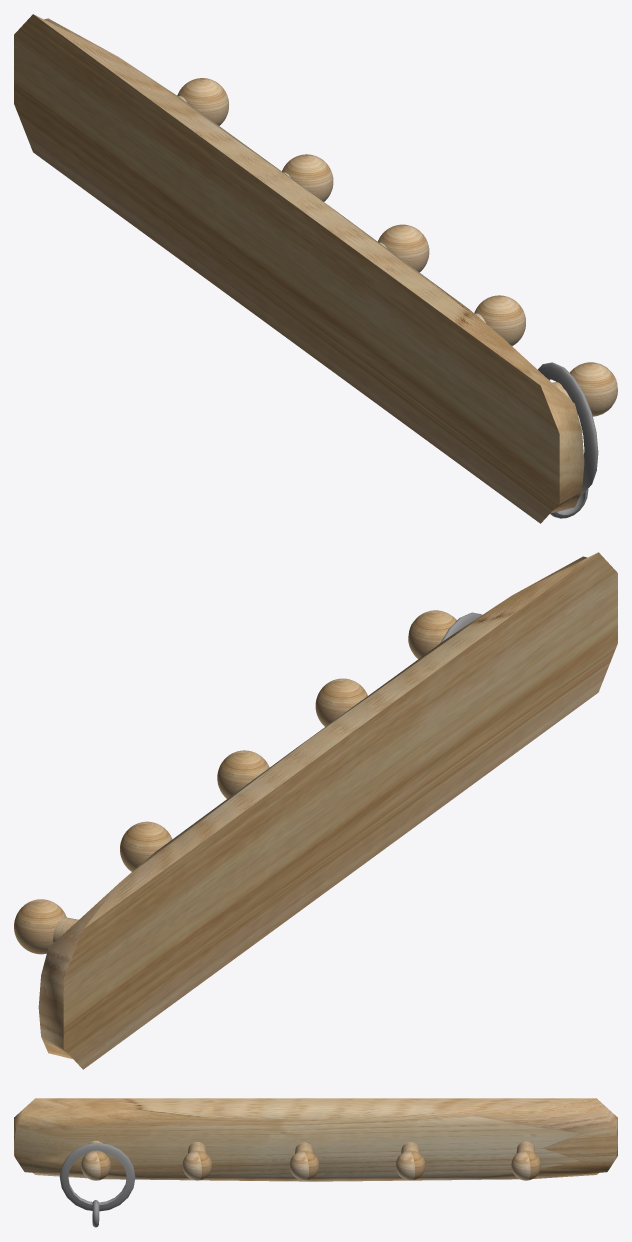
File: keyrack 1.fbx
3 views of the same model, one above another, from view 1: azimuth 30°, elevation 25°; view 2: azimuth 150°, elevation 25°; view 3: azimuth 270°, elevation 25° (orthographic). The views are drawn at different scales.
Visible parts, largest first — view 1: pCube1, pasted__pCylinder2 (×4), pTorus2, pCylinder2; view 2: pCube1, pasted__pCylinder2 (×4), pCylinder2; view 3: pCube1, pasted__pCylinder2 (×4), pTorus2, pCylinder2, pasted__pTorus2.
Boxes of the visible parts, x1,y1,x2,y2 form: pCube1: [14, 14, 584, 523]; pasted__pCylinder2 (×4): [177, 78, 525, 346]; pTorus2: [538, 362, 598, 494]; pCylinder2: [552, 362, 617, 416]; pCube1: [38, 552, 617, 1069]; pasted__pCylinder2 (×4): [14, 678, 367, 954]; pCylinder2: [408, 610, 456, 659]; pCube1: [14, 1098, 617, 1181]; pasted__pCylinder2 (×4): [182, 1141, 540, 1180]; pTorus2: [59, 1143, 135, 1211]; pCylinder2: [81, 1140, 110, 1180]; pasted__pTorus2: [92, 1200, 99, 1227].
Bounding box in the file's own units: 0.9759 × 1.39 × 7.16.
2 materials, 1 textured.
